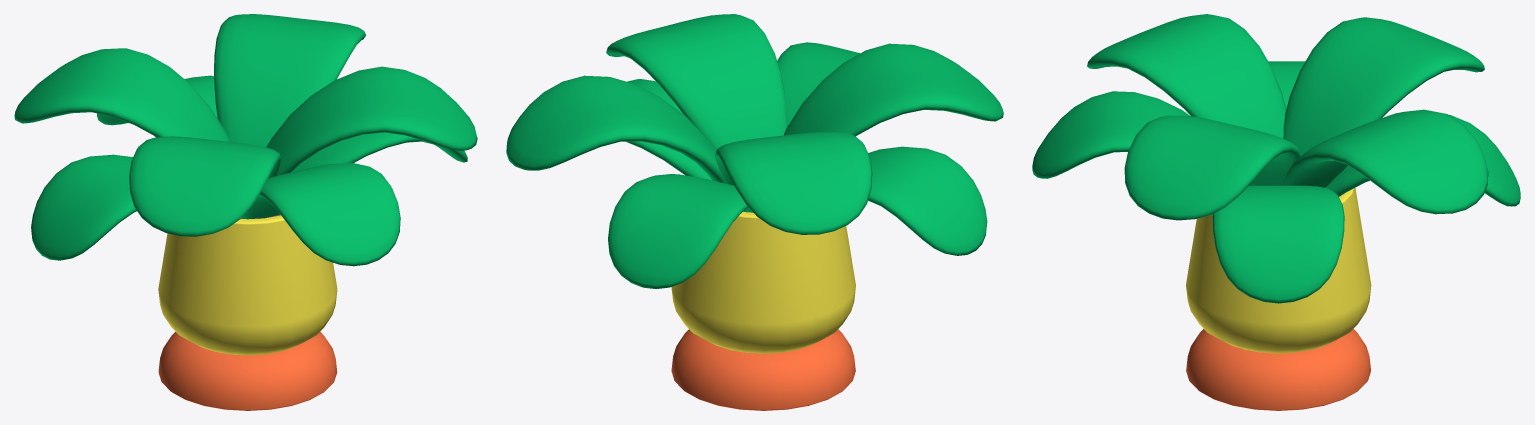
File: City_11_Plant_3.glb
3 views of the same model, side by side, from view 1: azimuth 30°, elevation 25°; view 2: azimuth 150°, elevation 25°; view 3: azimuth 270°, elevation 25° (orthographic). The views are drawn at different scales.
Parts seen in each view (by area): view 1: City_11_Plant_3; view 2: City_11_Plant_3; view 3: City_11_Plant_3.
Part boxes in pixels (x1,y1,x2,y2): City_11_Plant_3: (14,14,477,410); City_11_Plant_3: (506,14,1003,410); City_11_Plant_3: (1032,14,1520,410).
Size of the model in its own units: 1.11 by 0.7223 by 1.1.
Materials: 1 (1 with a texture image).
